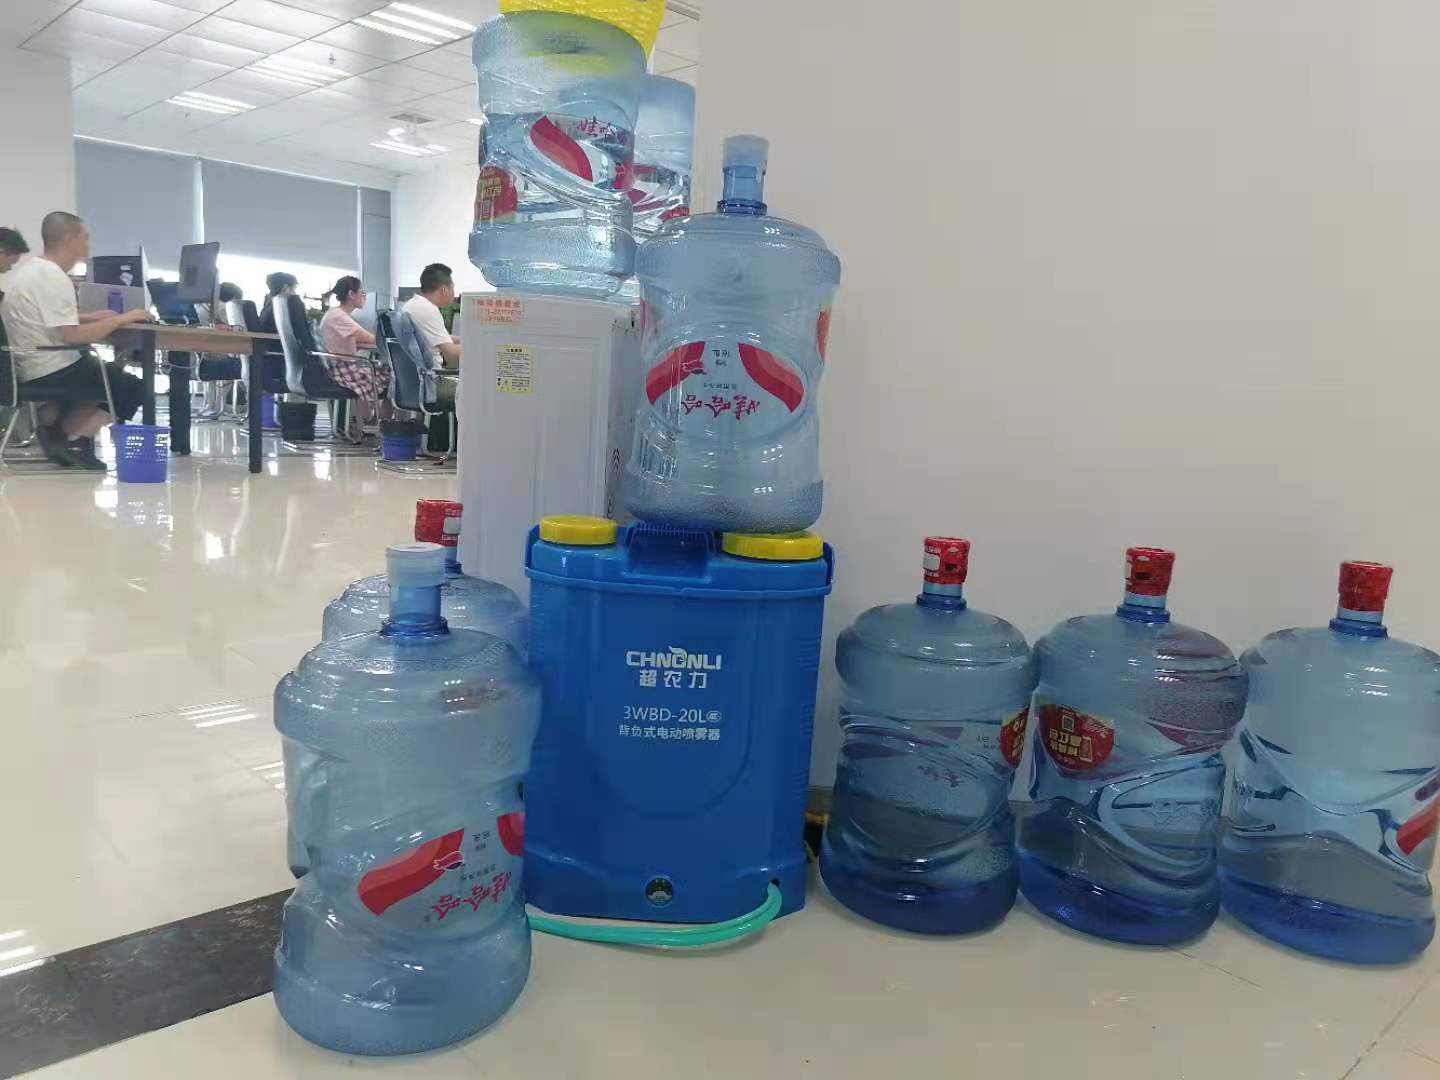berrl: (516, 508, 840, 929)
